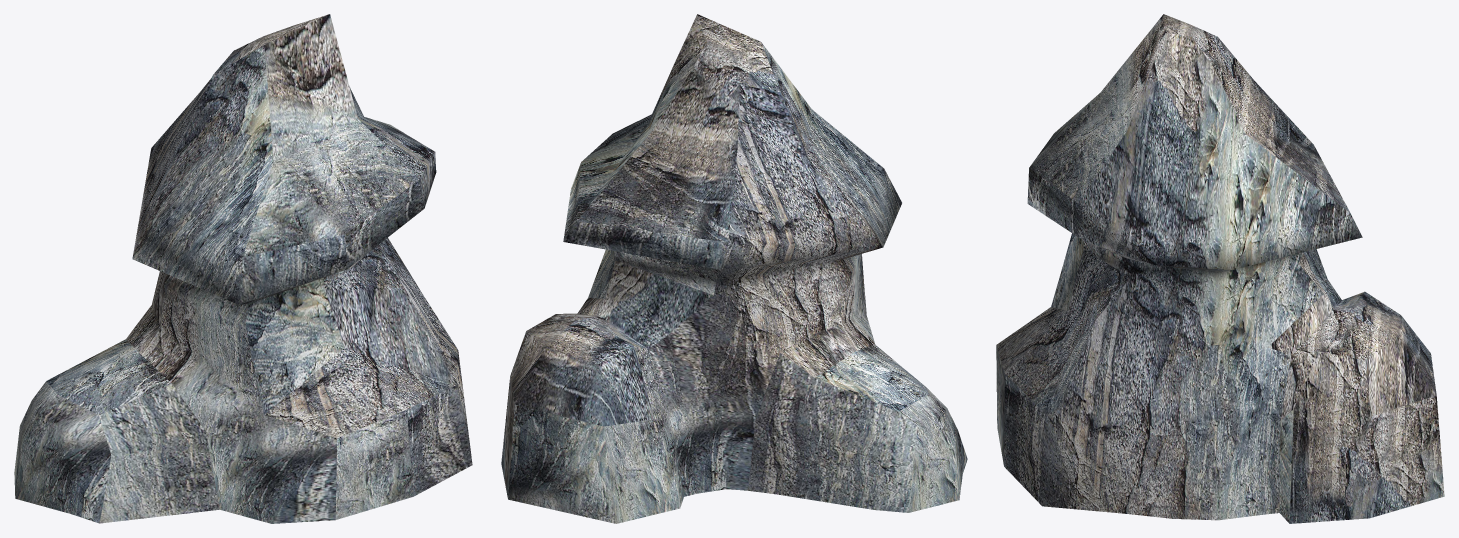
The model's file is ston_005.fbx.
3 views of the same model, side by side, from view 1: azimuth 30°, elevation 25°; view 2: azimuth 150°, elevation 25°; view 3: azimuth 270°, elevation 25° (orthographic). The views are drawn at different scales.
Parts seen in each view (by area): view 1: pSphere1; view 2: pSphere1; view 3: pSphere1.
Part boxes in pixels (bbox=[...]): pSphere1: bbox=[14, 14, 472, 523]; pSphere1: bbox=[501, 14, 967, 523]; pSphere1: bbox=[996, 14, 1444, 523].
Size of the model in its own units: 88.97 by 87.79 by 82.39.
